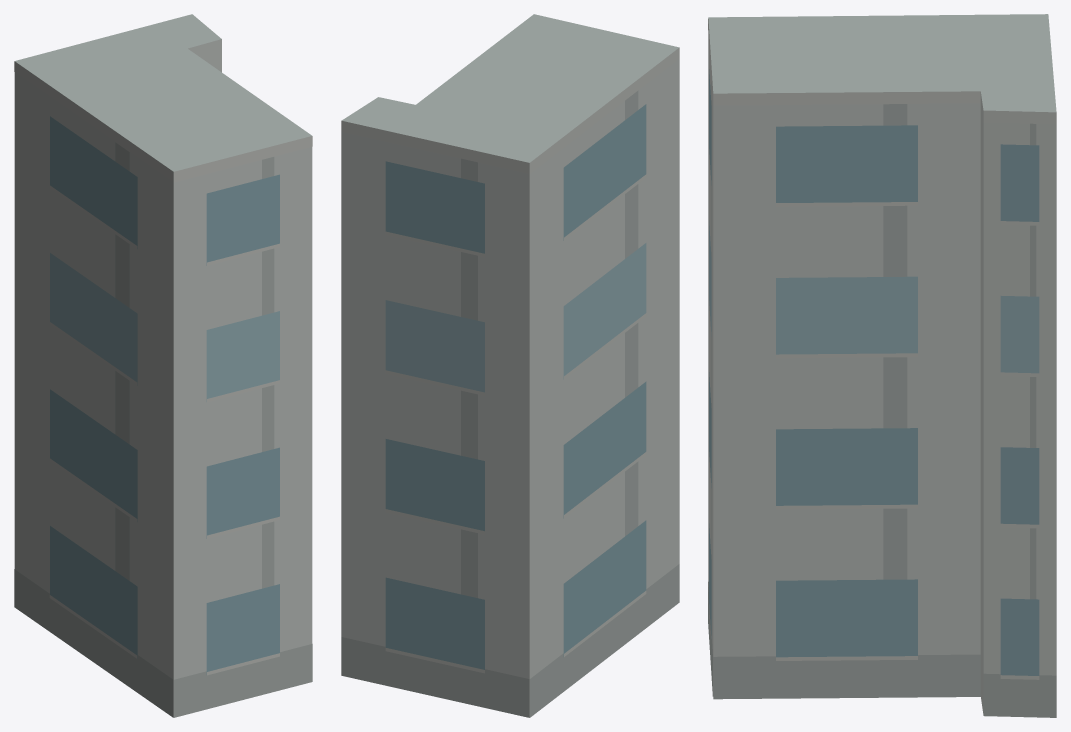
File: survey-upis-32623374.glb
The picture shows the model from 3 angles, left to right: view 1: azimuth 30°, elevation 25°; view 2: azimuth 150°, elevation 25°; view 3: azimuth 270°, elevation 25°; orthographic projection. The views are drawn at different scales.
Parts seen in each view (by area): view 1: survey-upis-32623374.tmp; view 2: survey-upis-32623374.tmp; view 3: survey-upis-32623374.tmp.
Boxes of the visible parts, x1=… form: survey-upis-32623374.tmp: x1=14, y1=14, x2=312, y2=717; survey-upis-32623374.tmp: x1=341, y1=14, x2=679, y2=717; survey-upis-32623374.tmp: x1=708, y1=14, x2=1056, y2=717.
Size of the model in its own units: 4.26 by 12.2 by 6.37.
